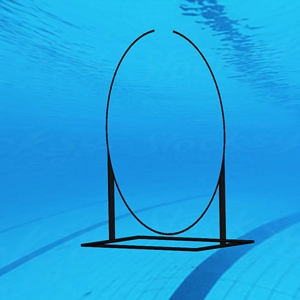circle: (79, 27, 257, 254)
